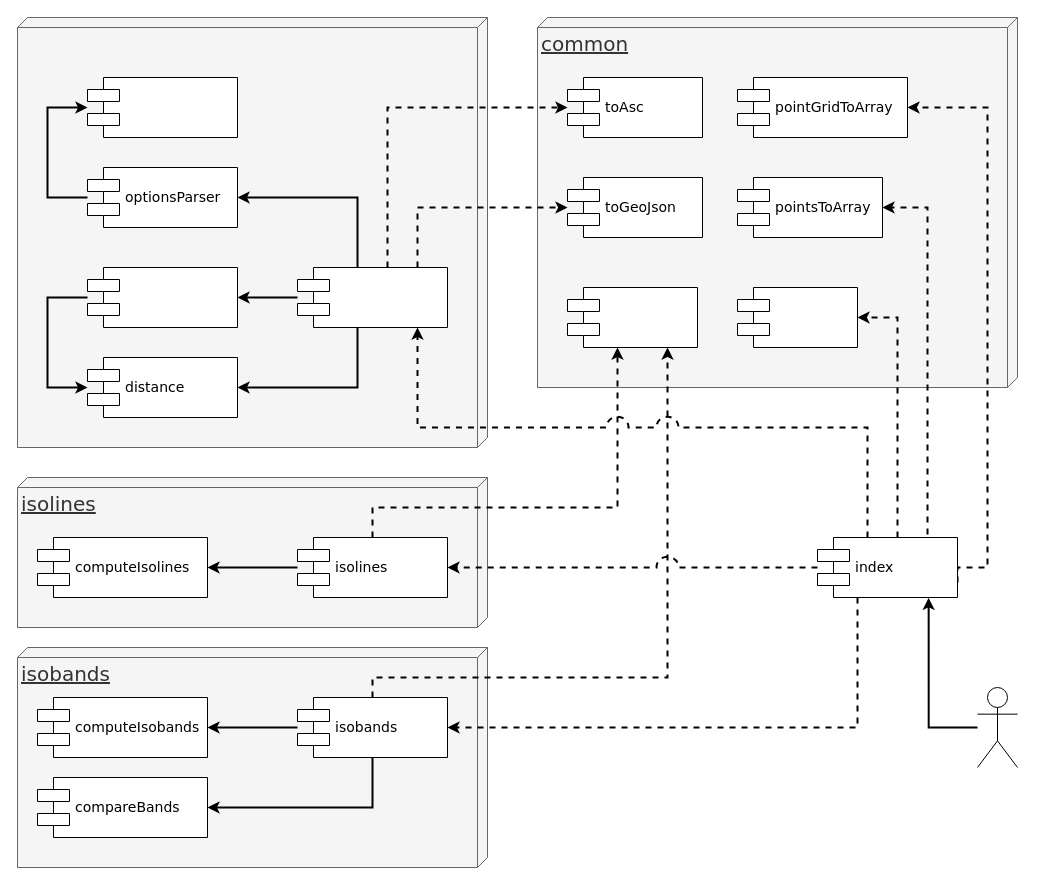
This 1047x885 diagram has some shape labels left out. The shapes that lost their labels are listed below. From the top down, each one's box as (x1, y1, x2, y2) in pixels, then its label:
(86, 76, 238, 138): bboxCalculator
(16, 16, 488, 448): interpolate
(86, 266, 238, 328): cellSizes
(296, 266, 448, 328): IDW
(566, 286, 698, 348): toLine
(736, 286, 858, 348): ascToArray
(976, 686, 1018, 768): Developer
